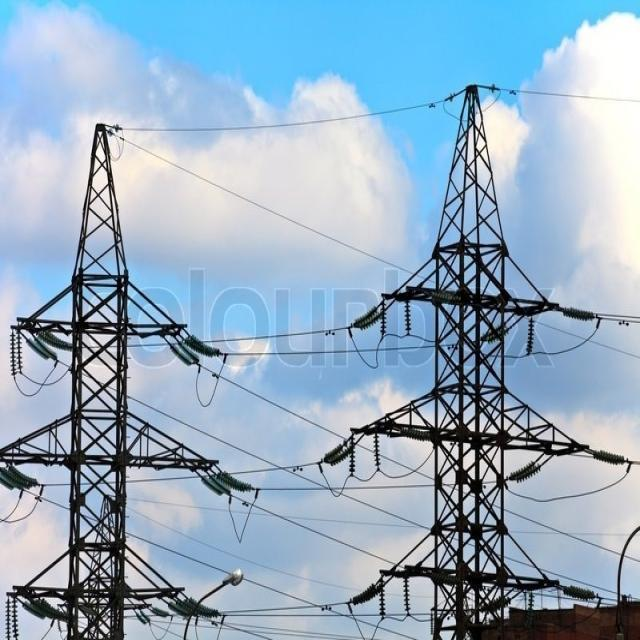non-critical vegetation: (326, 74, 617, 634), (12, 118, 211, 634)
